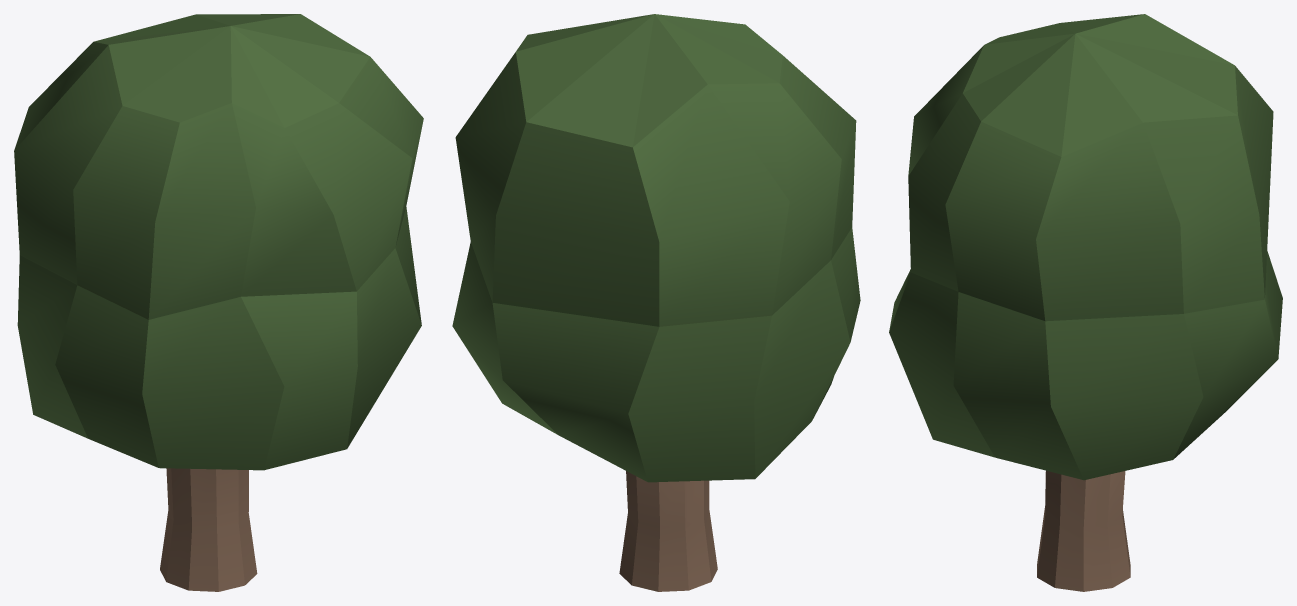
File: tree04.fbx
3 renders of one model, left to right at view 1: azimuth 30°, elevation 25°; view 2: azimuth 150°, elevation 25°; view 3: azimuth 270°, elevation 25°, orthographic.
Visible parts, largest first — view 1: group2, pCylinder2; view 2: group2, pCylinder2; view 3: group2, pCylinder2.
Part boxes in pixels (x1,y1,x2,y2): group2: (14,14,423,470); pCylinder2: (160,468,257,591); group2: (452,14,860,482); pCylinder2: (619,471,717,591); group2: (889,14,1282,480); pCylinder2: (1037,470,1130,591).
Size of the model in its own units: 32.48 by 47.17 by 30.82.
